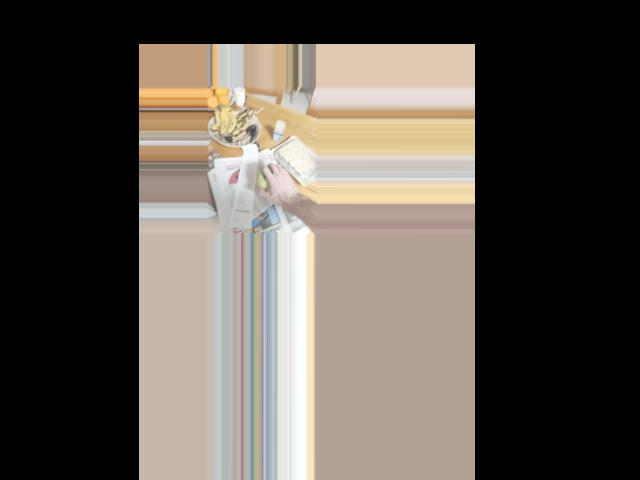apple: (257, 166, 282, 194)
